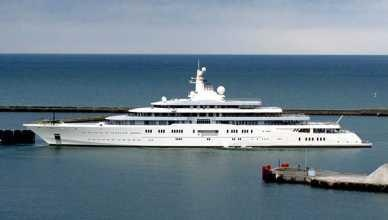yacht: (22, 67, 372, 147)
